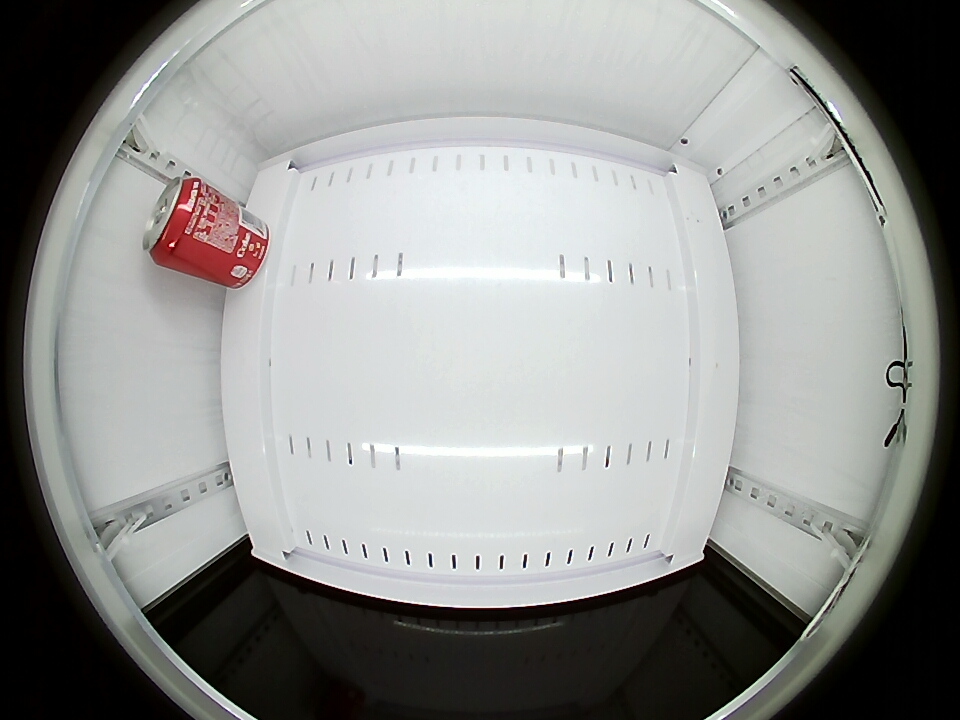kele: (143, 175, 210, 266)
